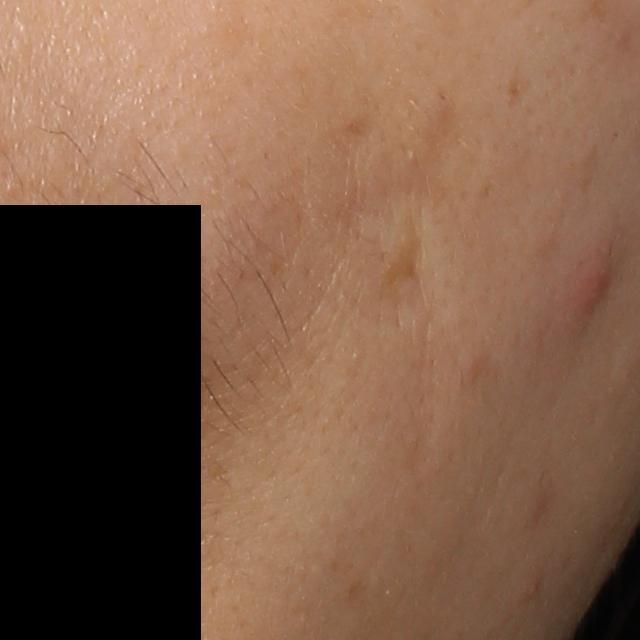papule: (559, 242, 621, 343), (522, 579, 541, 600)
